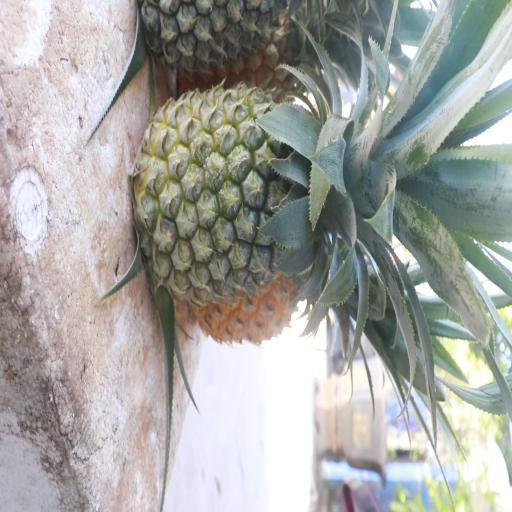------------------------------: (140, 78, 326, 302)
